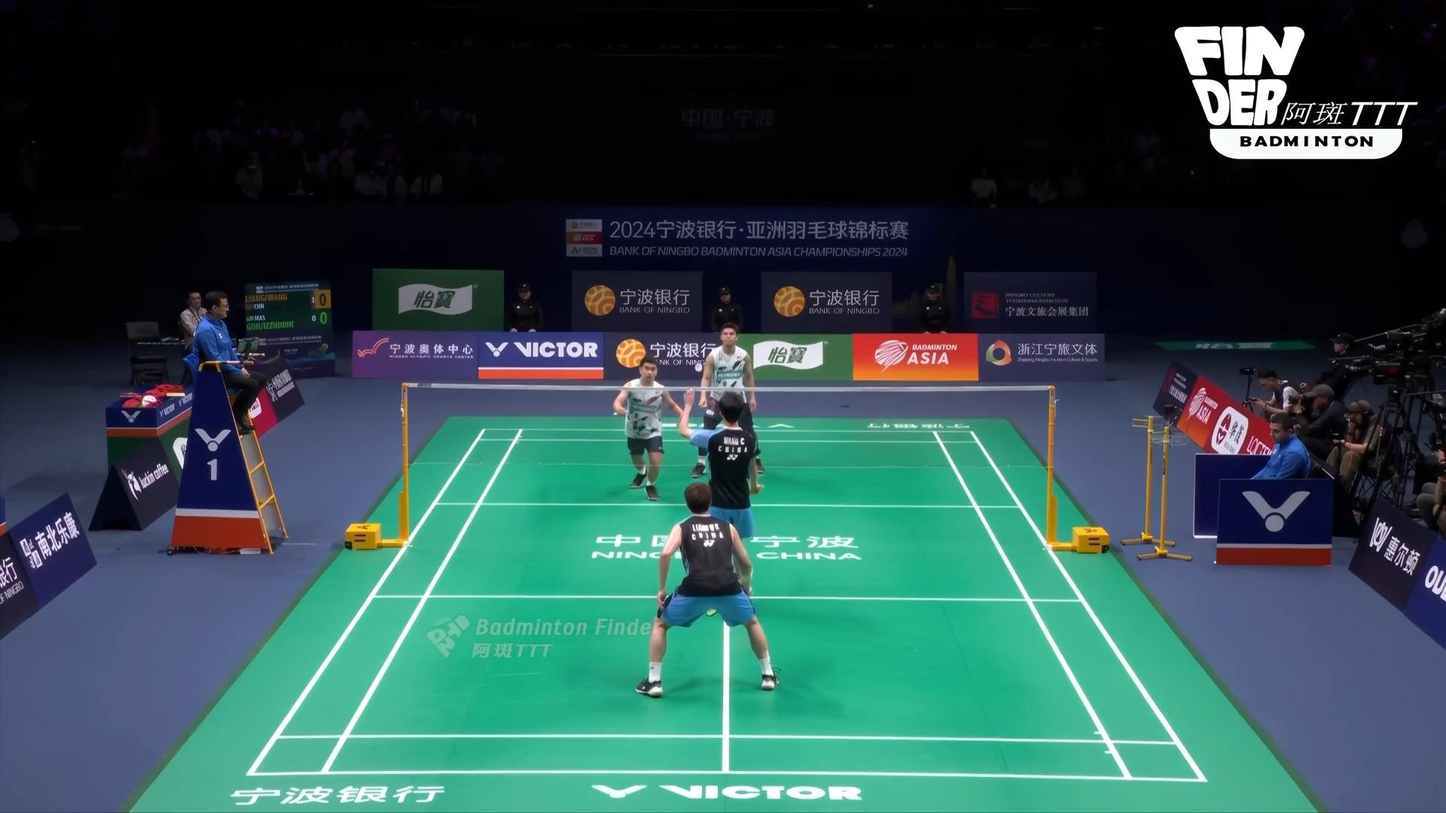player: (636, 482, 778, 697), (679, 386, 761, 540), (690, 323, 765, 479), (612, 355, 686, 501)
shuttlecock: (695, 362, 704, 373)
